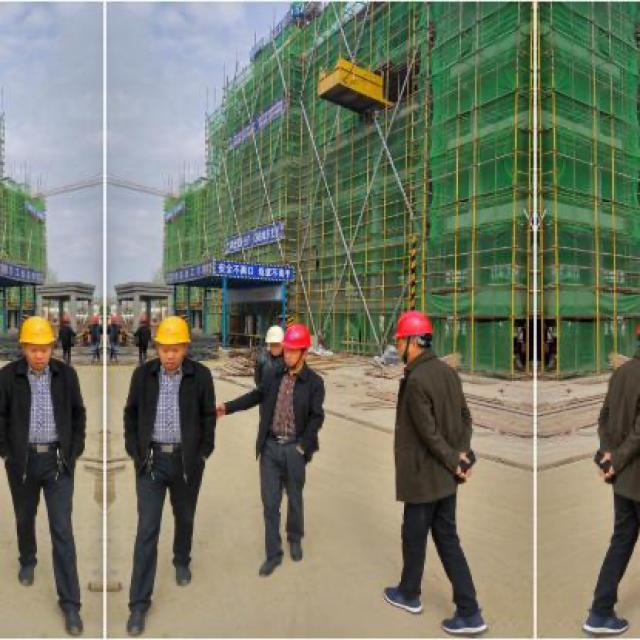helmet: (393, 308, 440, 364), (18, 308, 56, 367), (154, 308, 191, 367), (282, 321, 315, 372), (262, 325, 284, 361)
